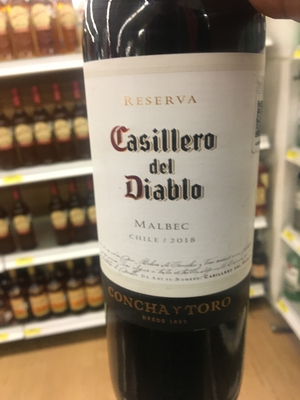casillero del diablo malbec: (67, 4, 264, 400)
